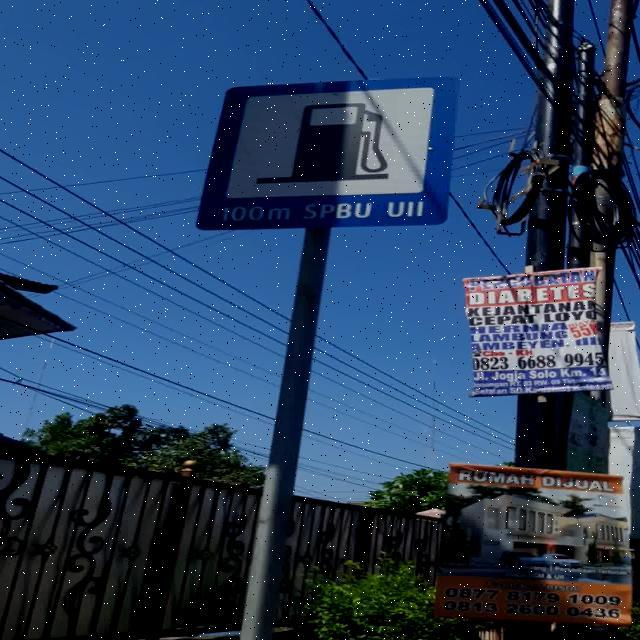Pom Bensin: (197, 76, 457, 230)
